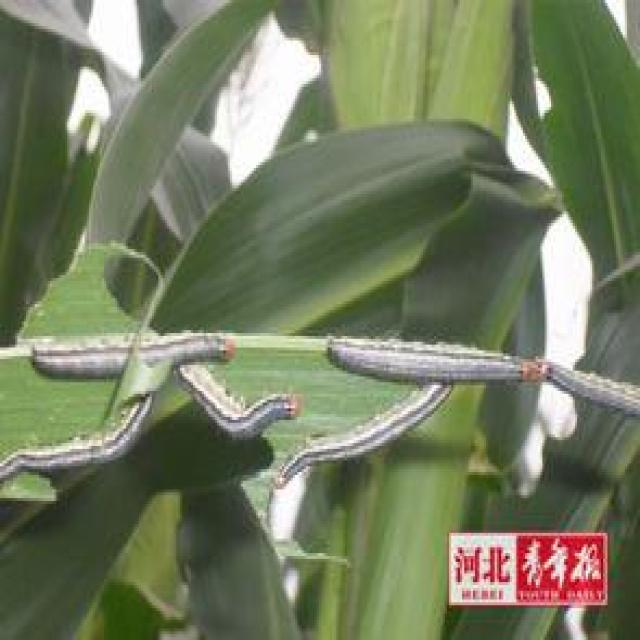pest: (284, 390, 439, 496), (2, 400, 152, 480), (330, 344, 543, 384), (37, 334, 228, 376), (185, 374, 300, 431), (553, 360, 640, 425)
